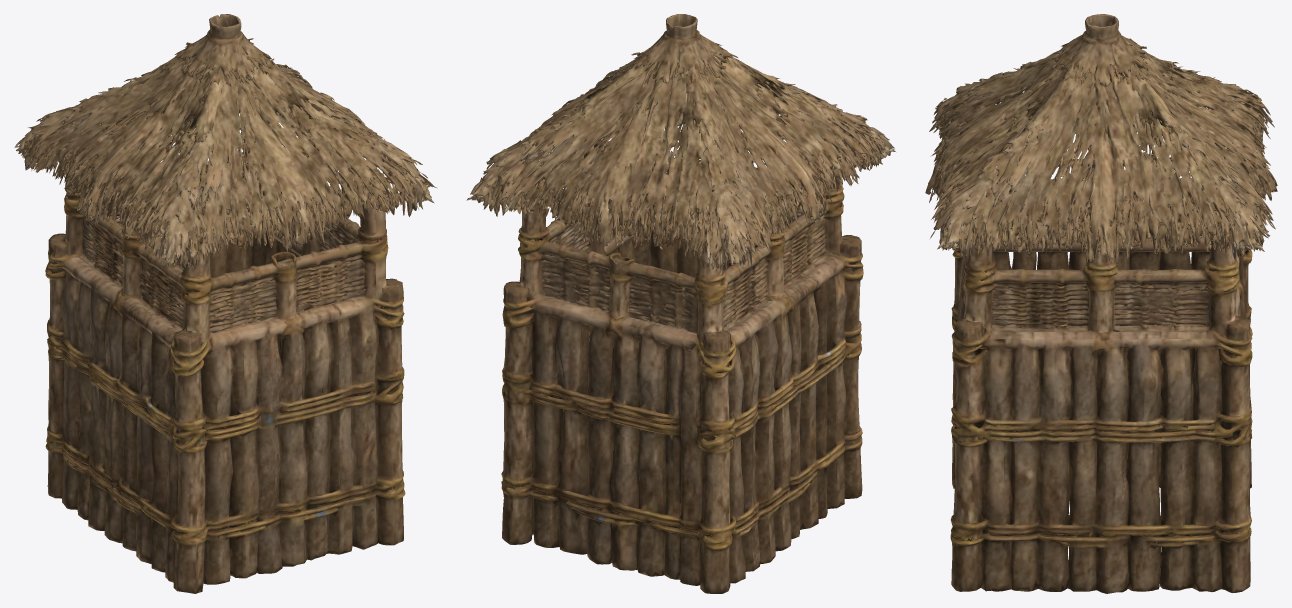
Rendered from watchtower.glb.
The picture shows the model from 3 angles, left to right: view 1: azimuth 30°, elevation 25°; view 2: azimuth 150°, elevation 25°; view 3: azimuth 270°, elevation 25°; orthographic projection. The views are drawn at different scales.
Visible parts, largest first — view 1: world; view 2: world; view 3: world.
Part boxes in pixels (x1,y1,x2,y2): world: (14, 14, 437, 593); world: (466, 14, 895, 593); world: (925, 14, 1277, 593).
Size of the model in its own units: 0.6051 by 0.9991 by 0.6181.
Materials: 1 (1 with a texture image).
